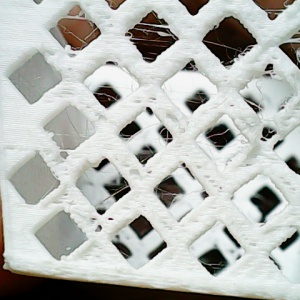3dpstringing: (120, 119, 179, 166), (129, 19, 172, 64), (56, 17, 103, 54), (157, 82, 217, 109), (80, 77, 141, 103), (52, 116, 97, 151), (88, 178, 134, 212), (198, 127, 251, 156), (236, 85, 275, 124), (204, 43, 256, 68), (148, 184, 206, 202), (280, 29, 298, 65), (37, 177, 62, 202), (251, 70, 288, 81)
3dpunderextrusion: (245, 122, 285, 171), (78, 212, 126, 237), (197, 165, 226, 197), (121, 169, 163, 189), (44, 144, 82, 163)
